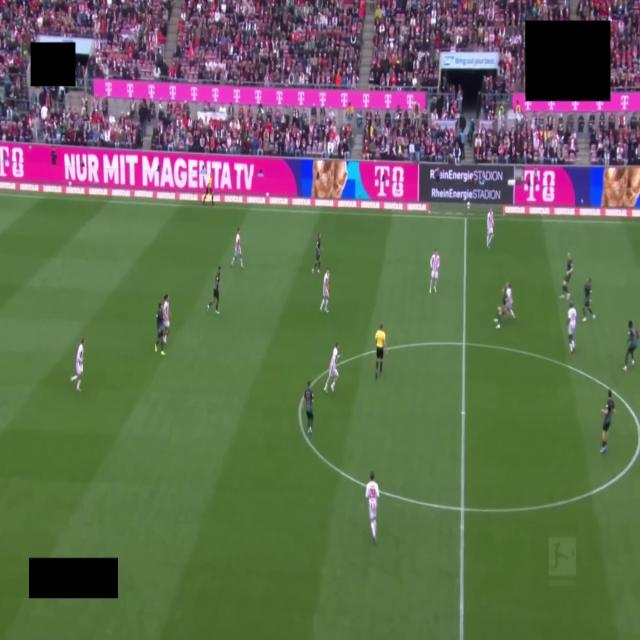player: (366, 472, 379, 543), (601, 390, 614, 453), (623, 320, 638, 371), (324, 343, 339, 391), (71, 338, 84, 391), (207, 266, 220, 314), (560, 253, 573, 300), (303, 382, 313, 435), (583, 278, 595, 321), (494, 287, 506, 328), (231, 228, 243, 269), (155, 304, 164, 355), (568, 303, 577, 352), (162, 294, 170, 344), (320, 268, 329, 312), (430, 249, 439, 293), (312, 232, 321, 273), (506, 281, 515, 318), (487, 209, 493, 247)
referee: (375, 324, 386, 378)
